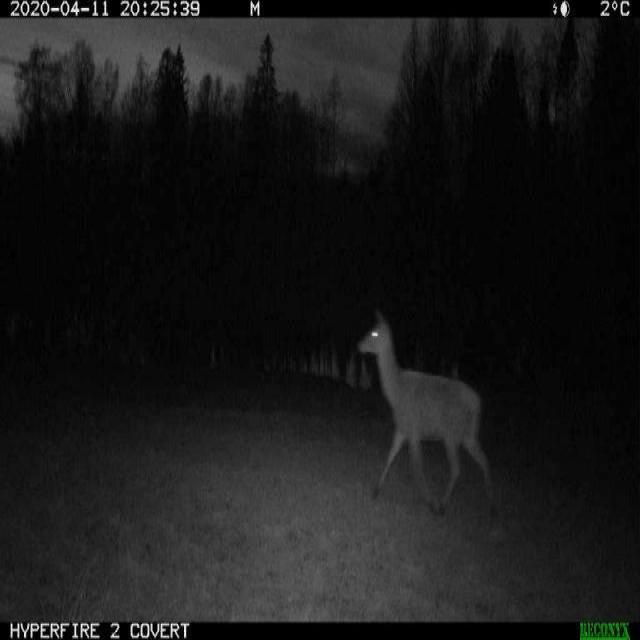deer: (350, 303, 500, 517)
